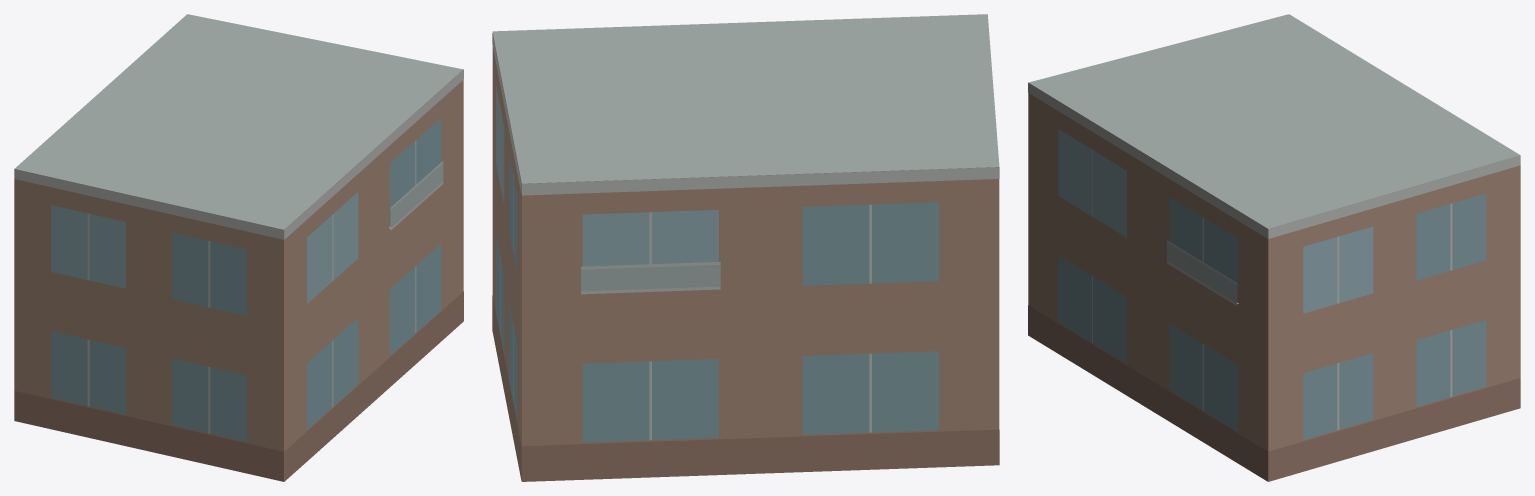
File: survey-upis-32616667.glb
The picture shows the model from 3 angles, left to right: view 1: azimuth 30°, elevation 25°; view 2: azimuth 150°, elevation 25°; view 3: azimuth 270°, elevation 25°; orthographic projection. The views are drawn at different scales.
Parts seen in each view (by area): view 1: survey-upis-32616667.tmp; view 2: survey-upis-32616667.tmp; view 3: survey-upis-32616667.tmp.
Part boxes in pixels (x1,y1,x2,y2): survey-upis-32616667.tmp: (14,14,463,481); survey-upis-32616667.tmp: (492,14,999,481); survey-upis-32616667.tmp: (1028,14,1520,481).
Size of the model in its own units: 11.13 by 6.1 by 10.77.
